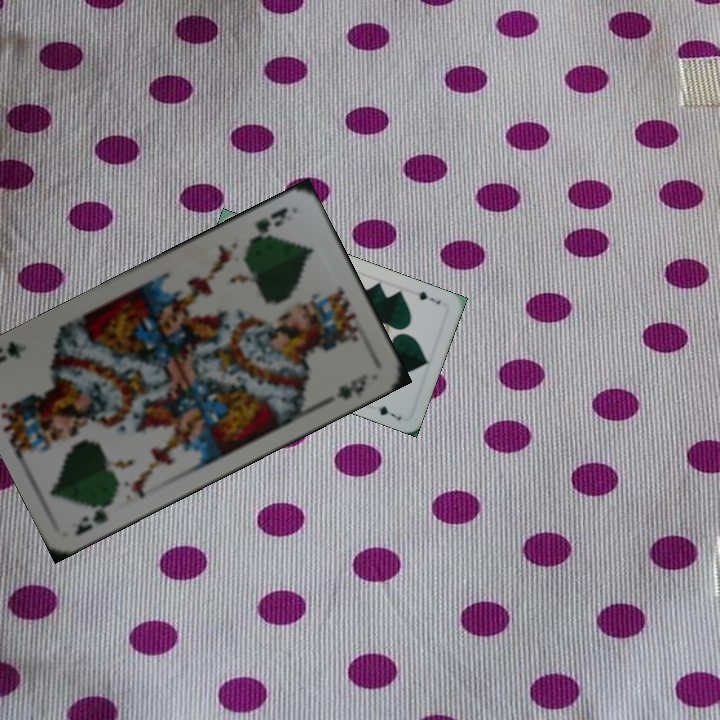G7: (414, 288, 443, 307)
GK: (71, 494, 117, 538), (251, 203, 291, 236)
